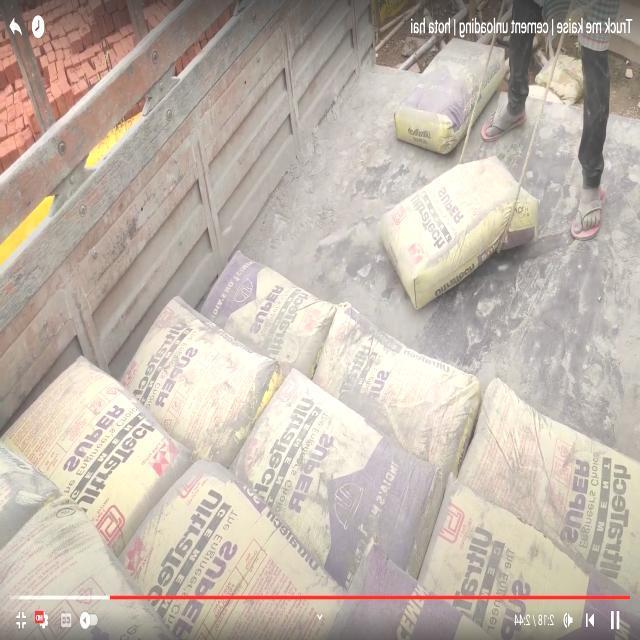gunny_bag: (231, 369, 443, 589), (119, 460, 342, 640), (459, 380, 640, 596), (1, 356, 189, 555), (419, 479, 640, 640), (313, 303, 481, 479), (121, 296, 282, 467), (381, 155, 538, 308), (202, 249, 335, 376), (395, 37, 490, 153)
